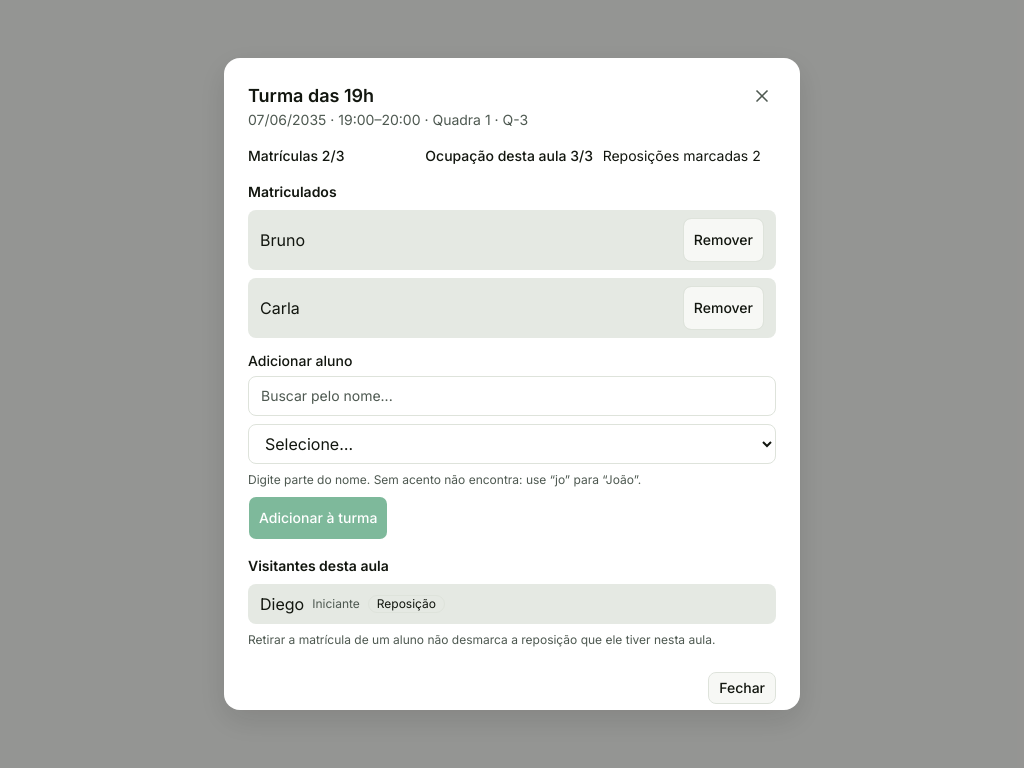
Test case: AulaDaTurmaDialog (D17/D18) › 409 de aula iniciada: mensagem do servidor, diálogo aberto, linha continua
Click the button with aria-label "Remover Bruno da turma" at (723, 240), box left=683, top=218, right=764, bottom=262
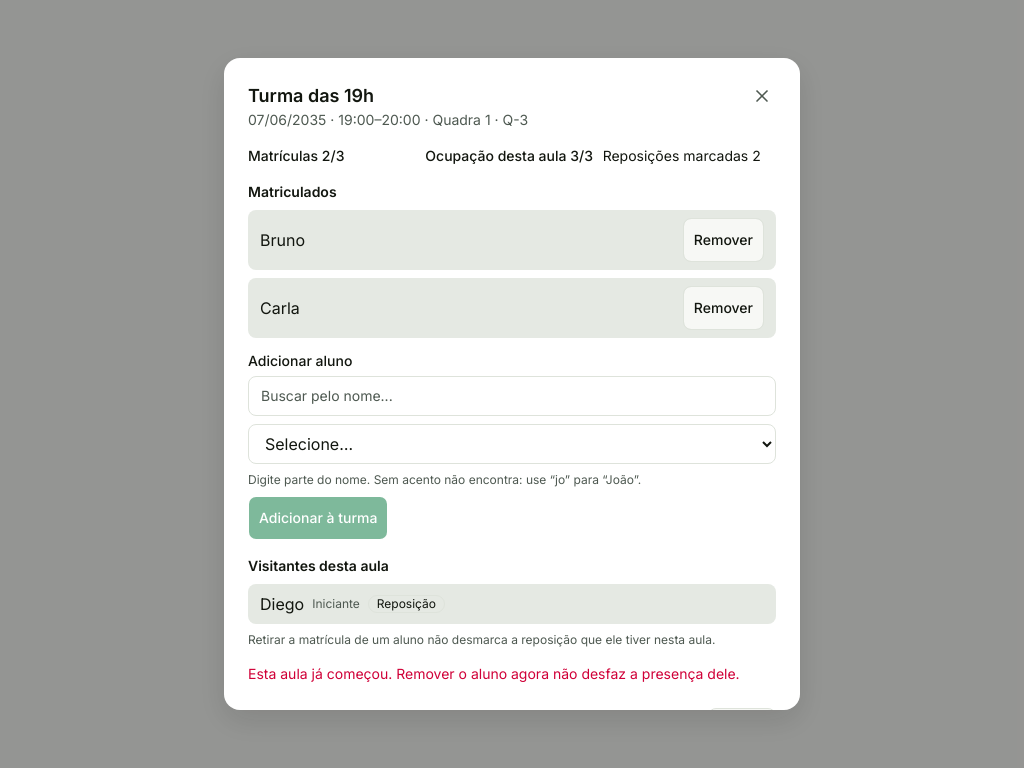
Expected: the text "Bruno" is shown, left=260, top=228, right=305, bottom=252
Expected: the message shows "Esta aula já começou", left=248, top=665, right=740, bottom=682
